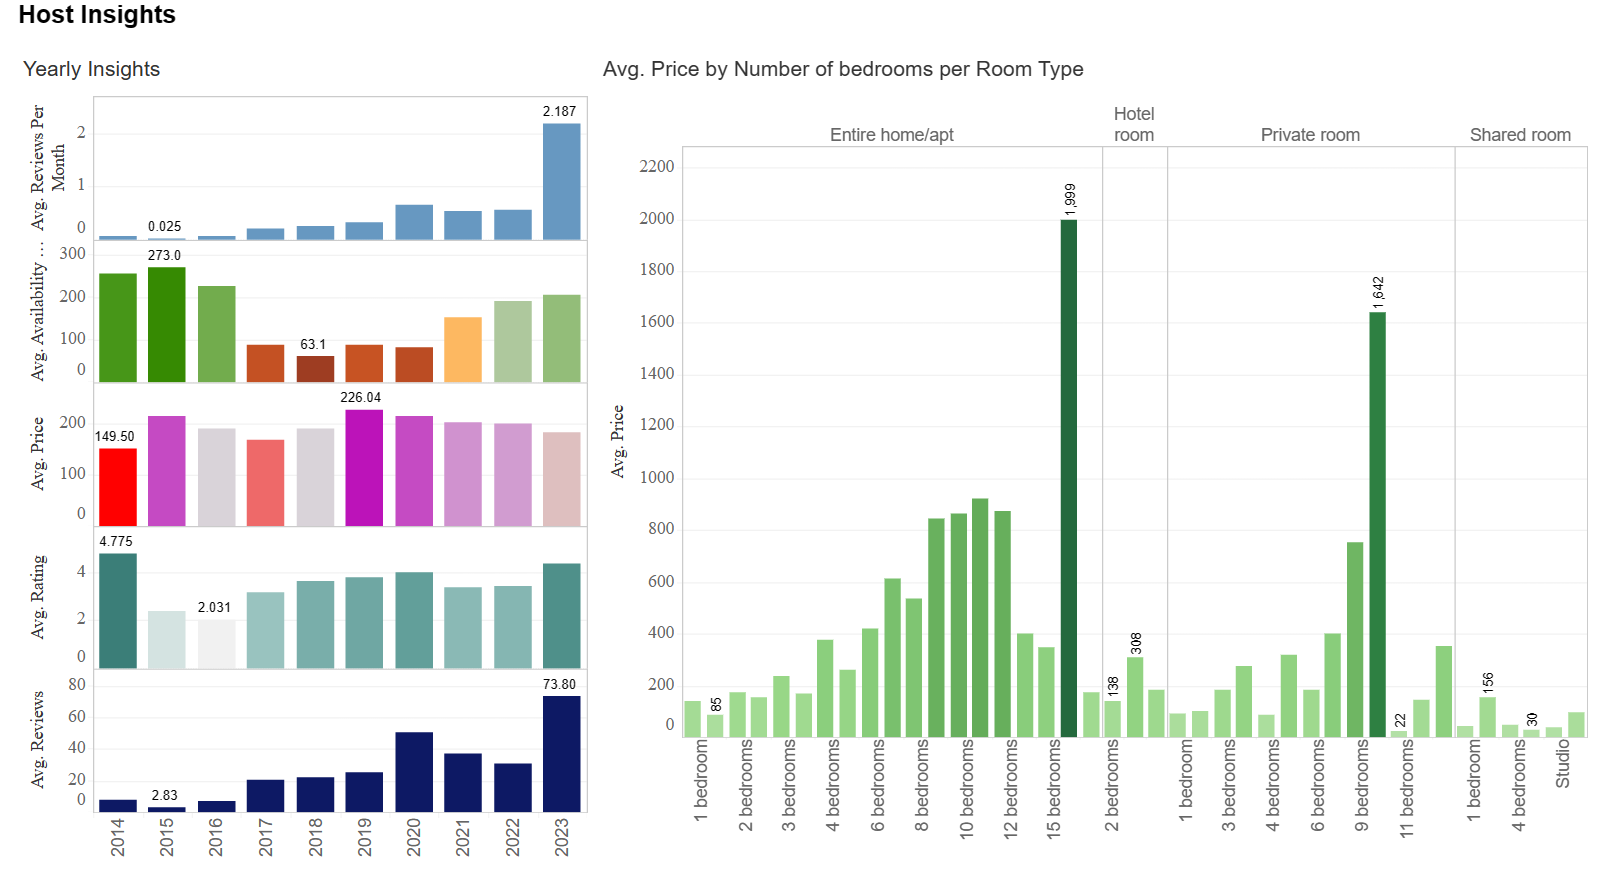

This screenshot's page, from the dashboard's own definition file:
{"tool":"tableau","page":{"name":"Host insights","canvas":[1280,720],"ordinal":0},"visuals":[{"type":"text","box":[8,8,1264,43]},{"type":"worksheet","title":"Sheet 14","mark":"Bar","rows":["reviews_per_month","availability_365","price","rating","number_of_reviews"],"cols":["last_review_date"],"box":[8,51,464,661]},{"type":"worksheet","title":"Sheet 15","mark":"Bar","rows":["price"],"cols":["room_type","bedrooms"],"box":[472,51,799.7,661]}]}

Visuals, with their boxes on the page's 1280x720 design canvas (x1, y1, x2, y2). These are canvas units, not pixel positions in the 1604x870 screenshot, which may show the page scaled, cropped or inside an application window:
text: BBox(8, 8, 1272, 51)
"Sheet 14" worksheet (Bar marks): BBox(8, 51, 472, 712)
"Sheet 15" worksheet (Bar marks): BBox(472, 51, 1272, 712)
